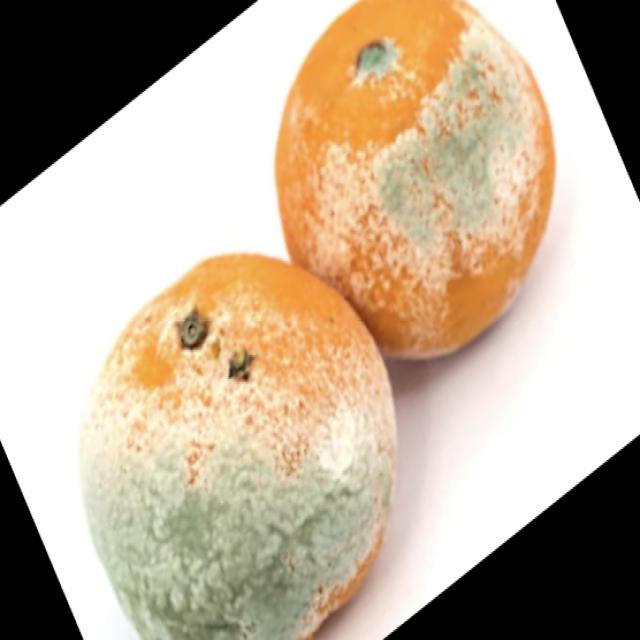sangat_busuk: (77, 250, 401, 640)
sedikit_busuk: (267, 1, 564, 360)
